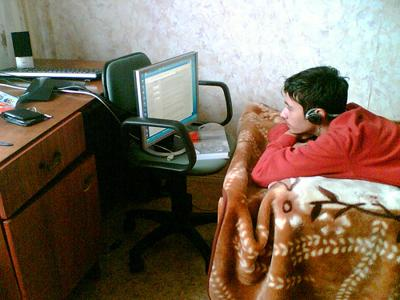person: (250, 67, 400, 192)
